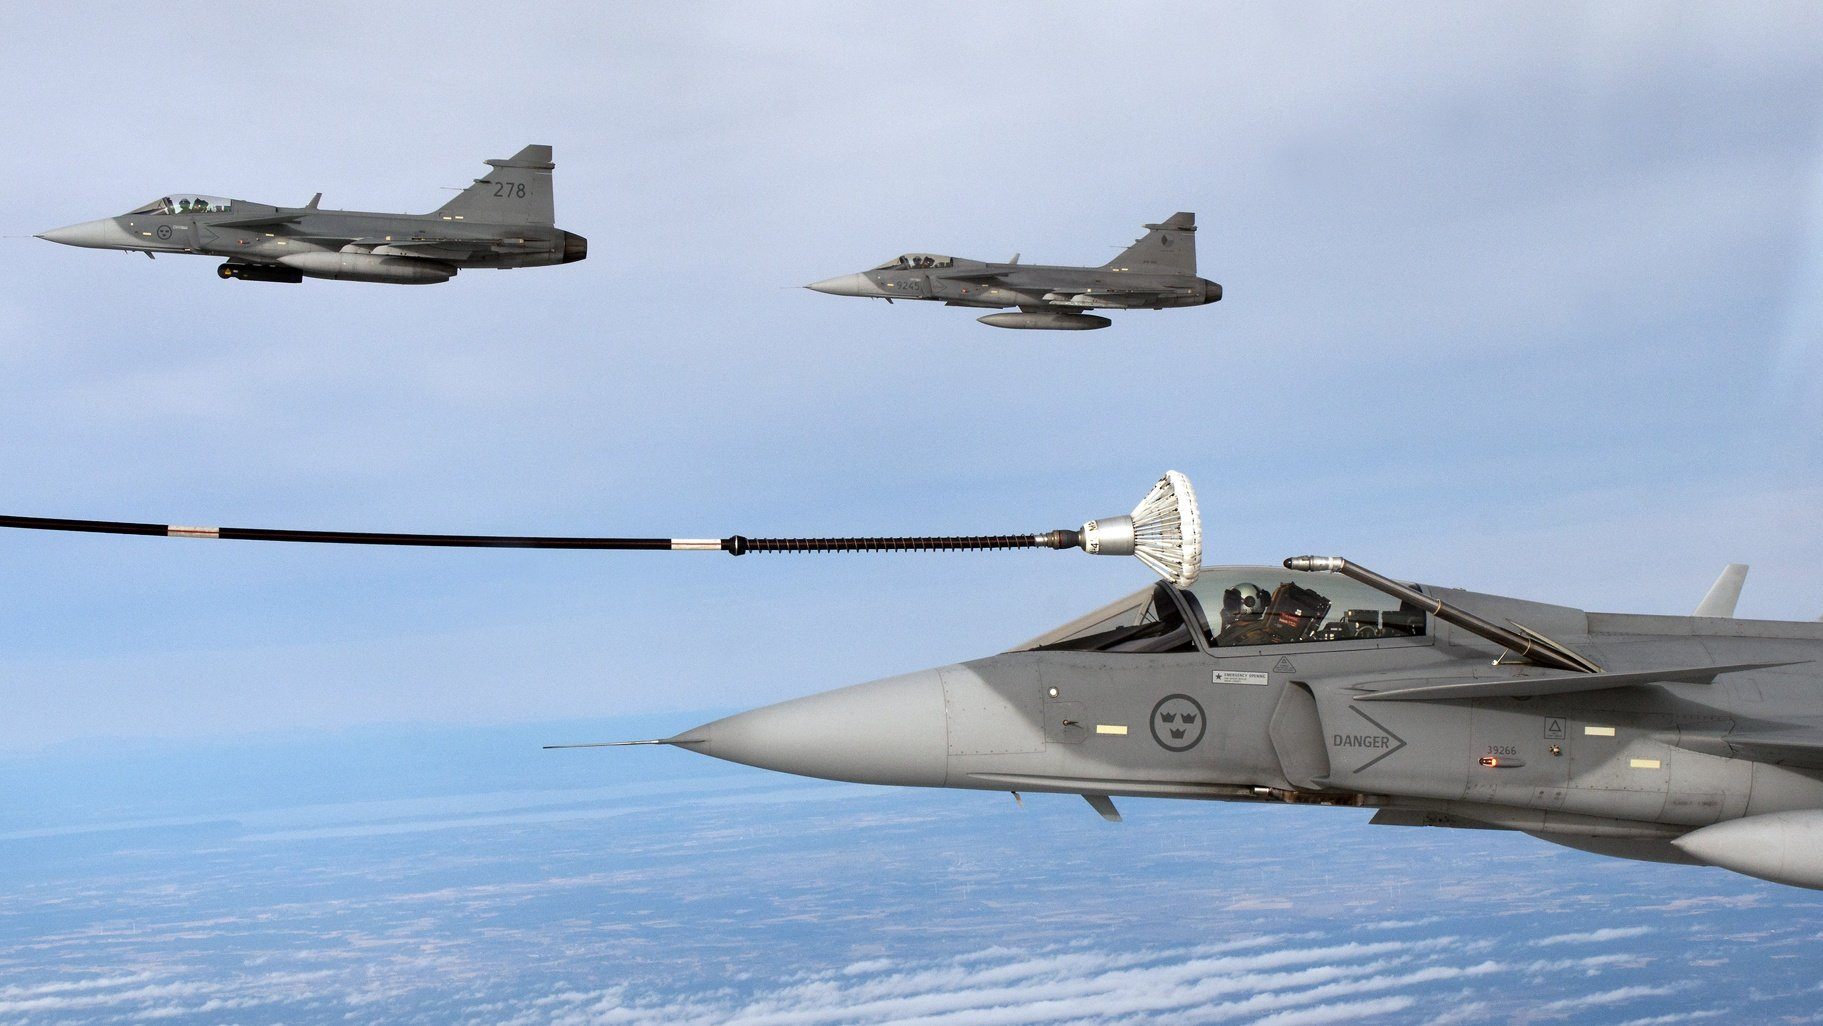JAS39: (542, 554, 1823, 891), (1, 144, 587, 286), (778, 210, 1223, 331)
